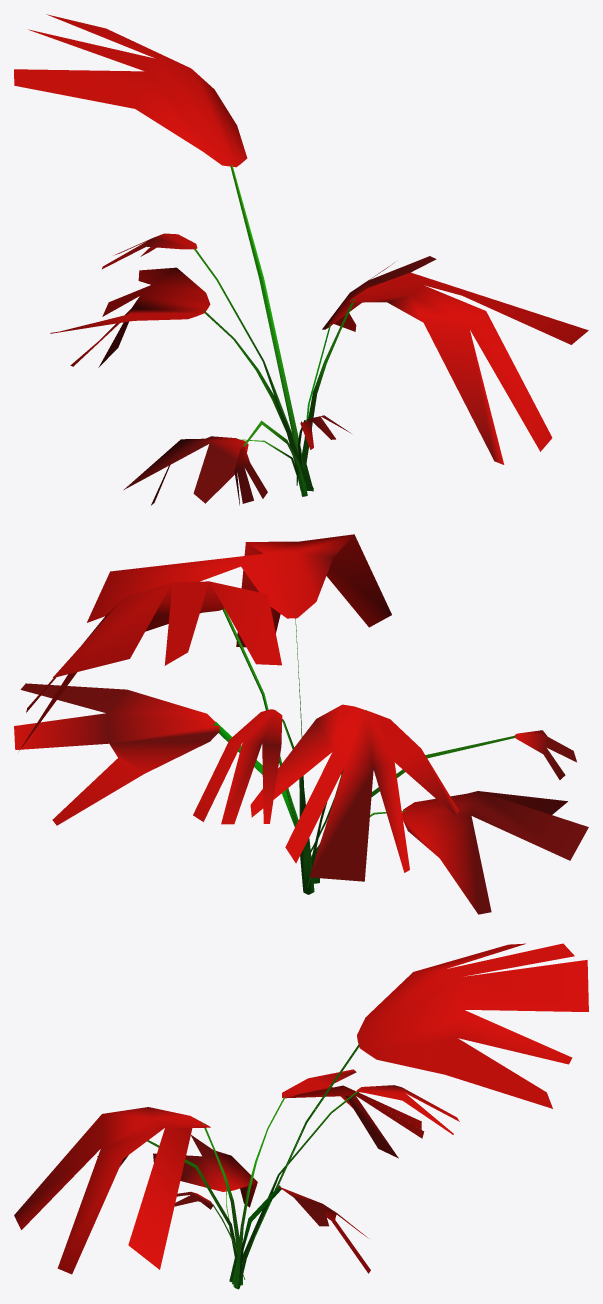
Rendered from Var5_LOD2.fbx.
The picture shows the model from 3 angles, top to bottom: view 1: azimuth 30°, elevation 25°; view 2: azimuth 150°, elevation 25°; view 3: azimuth 270°, elevation 25°; orthographic projection. The views are drawn at different scales.
Parts seen in each view (by area): view 1: _465f_Var5_LOD2; view 2: _465f_Var5_LOD2; view 3: _465f_Var5_LOD2.
Boxes of the visible parts, x1,y1,x2,y2 form: _465f_Var5_LOD2: [14, 14, 588, 505]; _465f_Var5_LOD2: [14, 534, 588, 914]; _465f_Var5_LOD2: [14, 943, 588, 1289].
Bounding box in the file's own units: 96.1 × 77.05 × 131.
